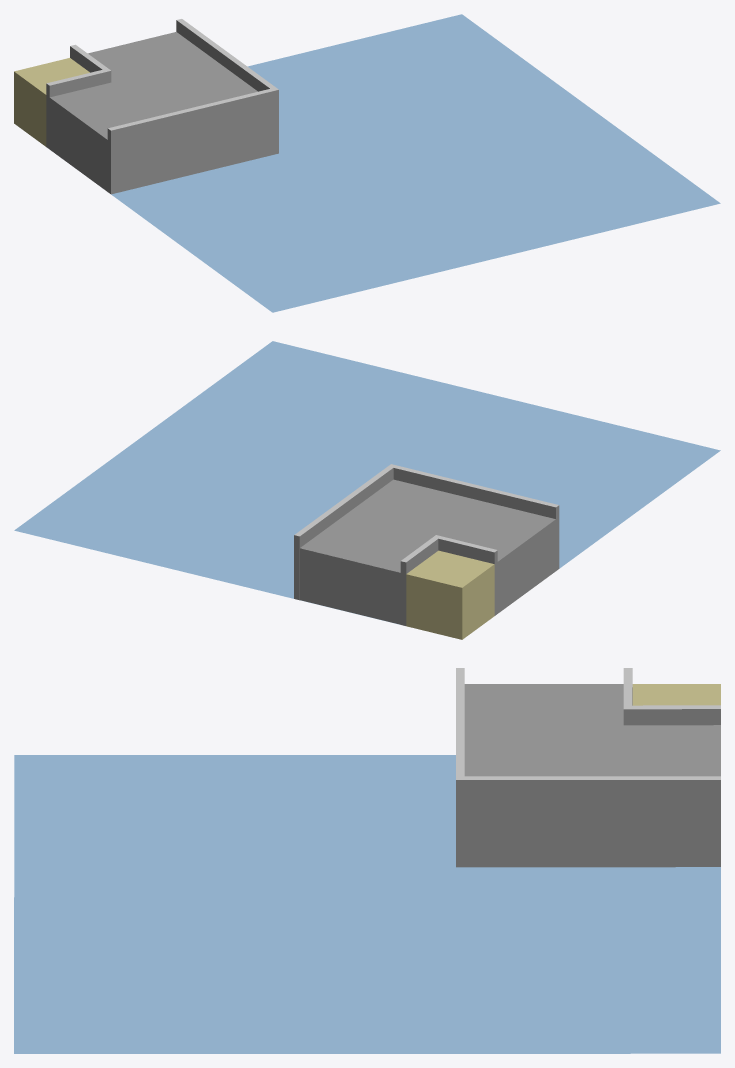
File: port_tile_2x2_003.fbx
3 renders of one model, top to bottom at view 1: azimuth 30°, elevation 25°; view 2: azimuth 150°, elevation 25°; view 3: azimuth 270°, elevation 25°, orthographic. The views are drawn at different scales.
Parts seen in each view (by area): view 1: port_tile_2x2_003; view 2: port_tile_2x2_003; view 3: port_tile_2x2_003.
Boxes of the visible parts, <box> form: port_tile_2x2_003: <box>14,14,720,312</box>; port_tile_2x2_003: <box>14,341,720,639</box>; port_tile_2x2_003: <box>14,668,720,1053</box>.
Bounding box in the file's own units: 1601 × 218 × 1601.
